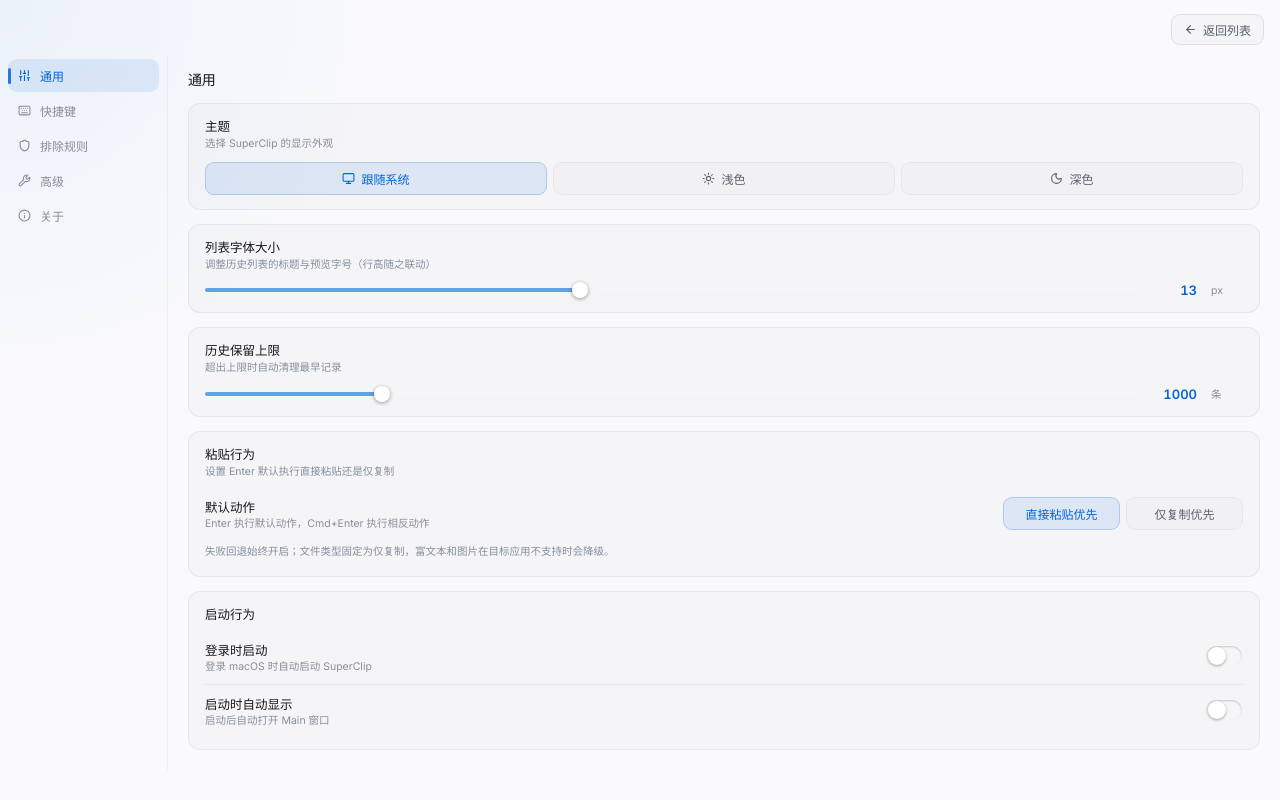
Test: SettingsShell (F2 分区化) › 切到高级分区：存储信息 + 诊断 danger 按钮
This screenshot has width=1280, height=800.
Click the button "高级".
click(84, 180)  # box [8,164,159,197]
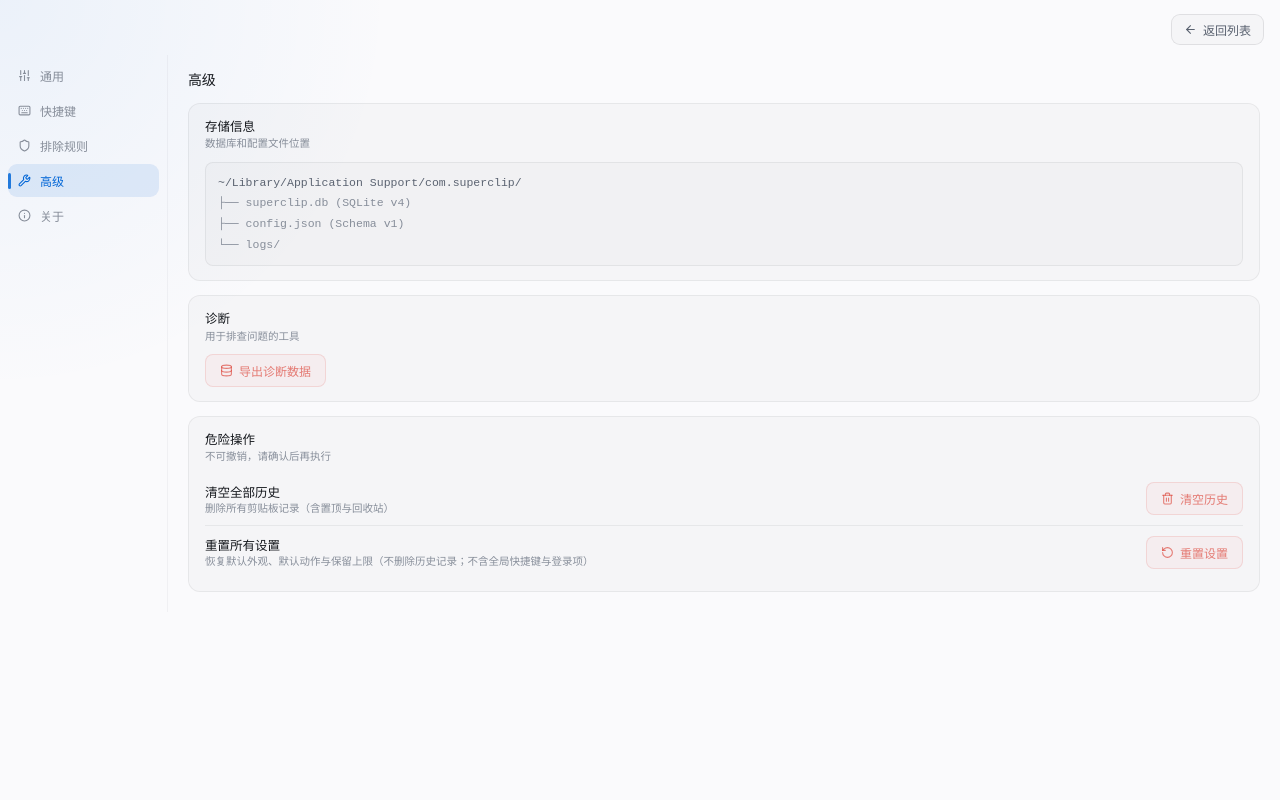
Expected: the heading "存储信息" is shown, [205,119,255,134]
Expected: the text "~/Library/Application Support/com.superclip/" is shown, [218,176,522,189]
Expected: the button "导出诊断数据" is shown, [205,354,326,387]
